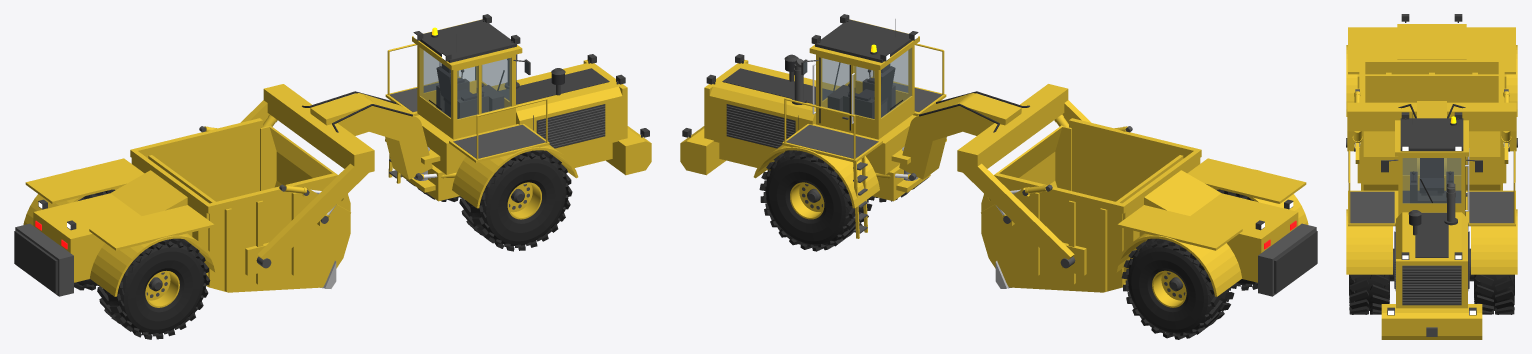
File: wheel_tractor_scraper.glb
The picture shows the model from 3 angles, left to right: view 1: azimuth 30°, elevation 25°; view 2: azimuth 150°, elevation 25°; view 3: azimuth 270°, elevation 25°; orthographic projection. The views are drawn at different scales.
Visible parts, largest first — view 1: bowl_tilt, tractor, scraper_hitch_rotate, cab, wheel_rear_right_spin, wheel_tractor_right_spin, apron_tilt, ejector_slide; view 2: bowl_tilt, tractor, cab, scraper_hitch_rotate, wheel_rear_left_spin, wheel_tractor_left_spin, apron_tilt, ejector_slide; view 3: tractor, bowl_tilt, cab, apron_tilt, scraper_hitch_rotate, ejector_slide, wheel_tractor_right_spin, wheel_tractor_left_spin.
Boxes of the visible parts, bbox=[...] form: bowl_tilt: bbox=[14, 118, 337, 296]; tractor: bbox=[385, 43, 651, 208]; scraper_hitch_rotate: bbox=[240, 84, 432, 268]; cab: bbox=[412, 14, 530, 174]; wheel_rear_right_spin: bbox=[97, 238, 210, 339]; wheel_tractor_right_spin: bbox=[459, 150, 572, 251]; apron_tilt: bbox=[260, 125, 350, 268]; ejector_slide: bbox=[148, 155, 215, 276]; bowl_tilt: bbox=[994, 118, 1317, 296]; tractor: bbox=[680, 43, 946, 238]; cab: bbox=[801, 14, 919, 174]; scraper_hitch_rotate: bbox=[899, 84, 1091, 268]; wheel_rear_left_spin: bbox=[1121, 238, 1234, 339]; wheel_tractor_left_spin: bbox=[759, 150, 872, 251]; apron_tilt: bbox=[981, 125, 1071, 268]; ejector_slide: bbox=[1116, 155, 1183, 271]; tractor: bbox=[1346, 150, 1517, 339]; bowl_tilt: bbox=[1346, 14, 1517, 190]; cab: bbox=[1381, 107, 1482, 215]; apron_tilt: bbox=[1355, 131, 1508, 190]; scraper_hitch_rotate: bbox=[1346, 101, 1517, 174]; ejector_slide: bbox=[1365, 72, 1498, 102]; wheel_tractor_right_spin: bbox=[1349, 274, 1389, 314]; wheel_tractor_left_spin: bbox=[1474, 274, 1514, 314].
Bounding box in the file's own units: 13.22 × 4.29 × 3.58.
15 materials, 15 textured.
